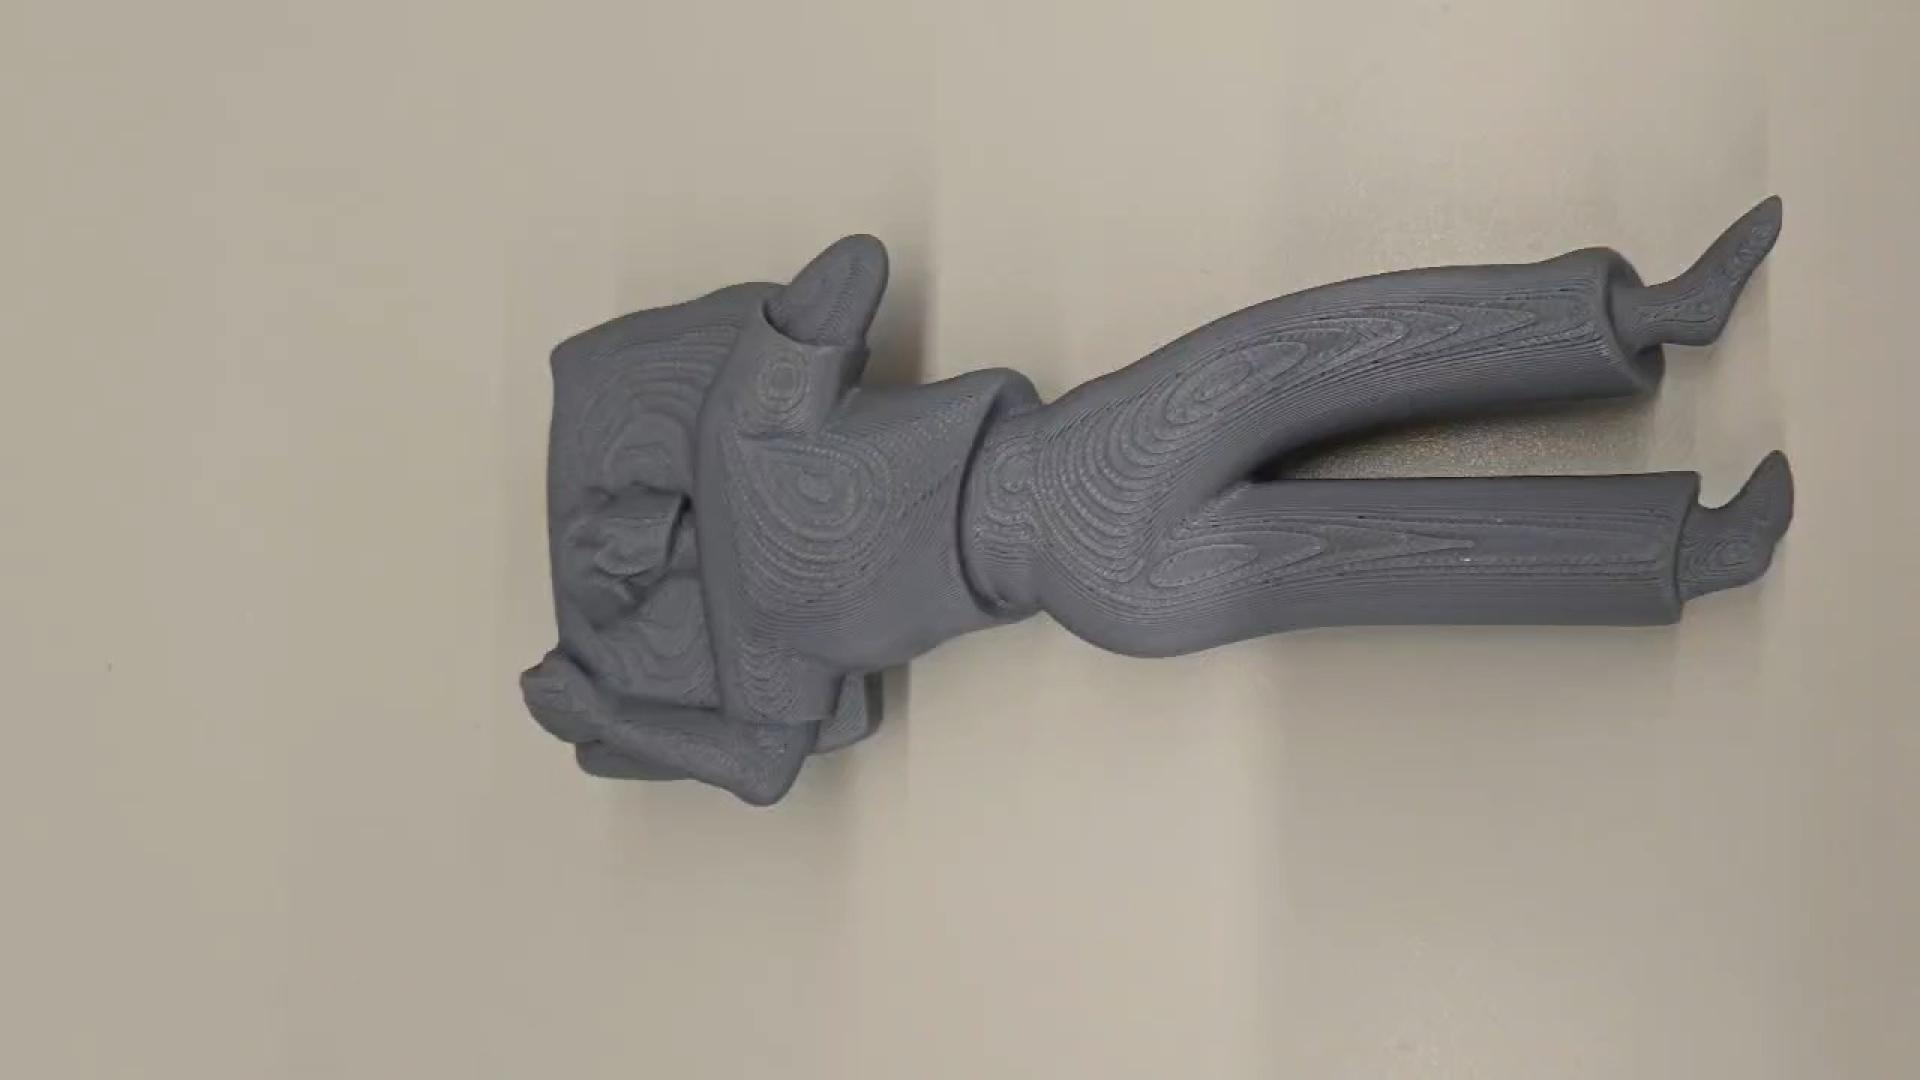Bad-style: (520, 177, 1797, 806)
